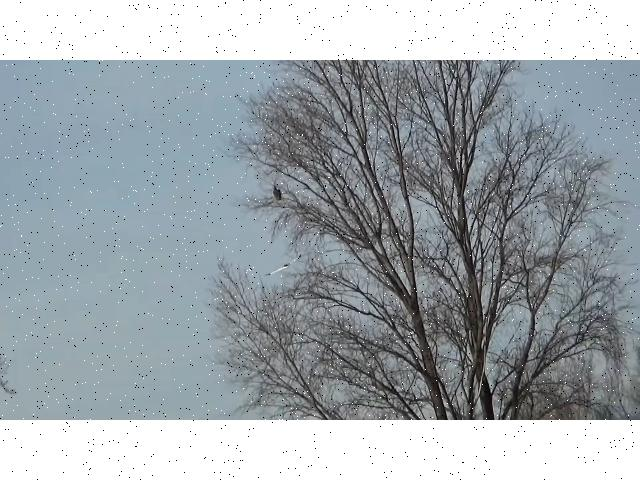Anti-Drone: (264, 256, 300, 277)
